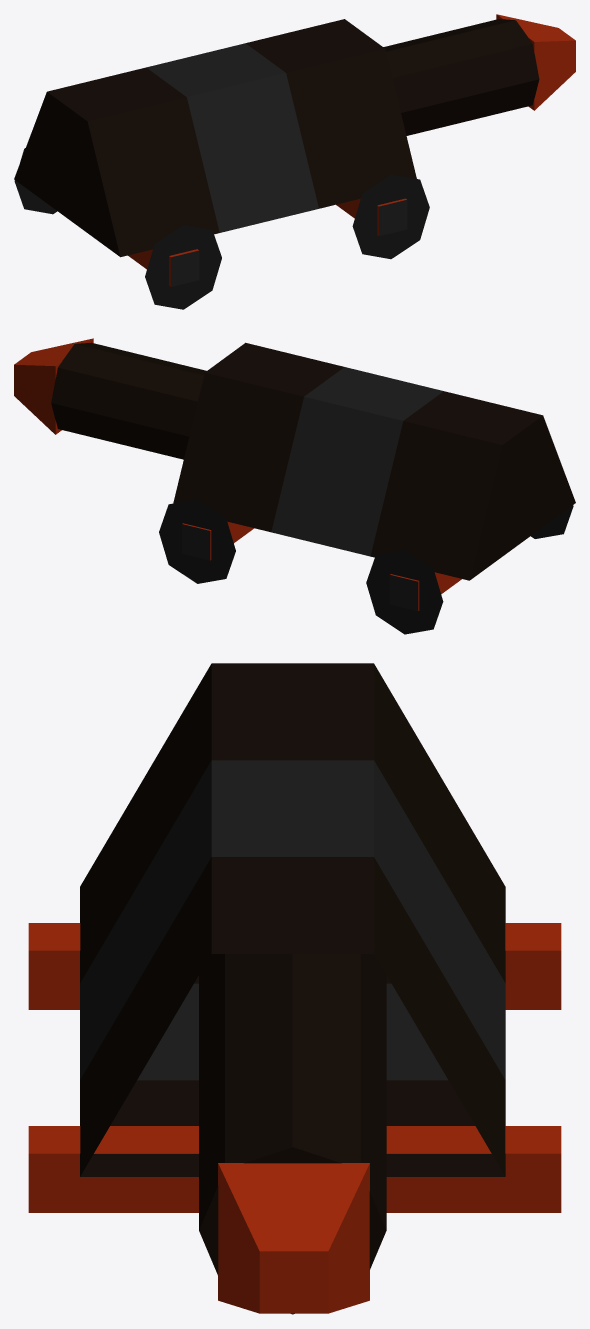
File: heavybatteringram3f.obj
3 renders of one model, top to bottom at view 1: azimuth 30°, elevation 25°; view 2: azimuth 150°, elevation 25°; view 3: azimuth 270°, elevation 25°, orthographic. The views are drawn at different scales.
Parts seen in each view (by area): view 1: Cube, Plane.003, Plane.002, Cube.003, Cube.002, Cube.001, Plane.001; view 2: Cube, Plane.001, Plane, Cube.003, Cube.002, Cube.001, Plane.002; view 3: Cube, Cube.001, Cube.003, Cube.002.
Part boxes in pixels (x1,y1,x2,y2): Cube: [14, 19, 539, 257]; Plane.003: [352, 174, 429, 259]; Plane.002: [145, 225, 221, 309]; Cube.003: [496, 14, 575, 110]; Cube.002: [128, 249, 199, 286]; Cube.001: [336, 198, 407, 236]; Plane.001: [14, 148, 57, 214]; Cube: [51, 342, 575, 580]; Plane.001: [366, 550, 443, 634]; Plane: [159, 499, 235, 583]; Cube.003: [14, 338, 93, 434]; Cube.002: [389, 572, 461, 611]; Cube.001: [182, 521, 253, 560]; Plane.002: [531, 505, 573, 538]; Cube: [80, 663, 505, 1314]; Cube.001: [28, 1126, 561, 1212]; Cube.003: [218, 1163, 369, 1313]; Cube.002: [28, 923, 561, 1009].
Size of the model in its own units: 12.93 by 4.17 by 5.96.
